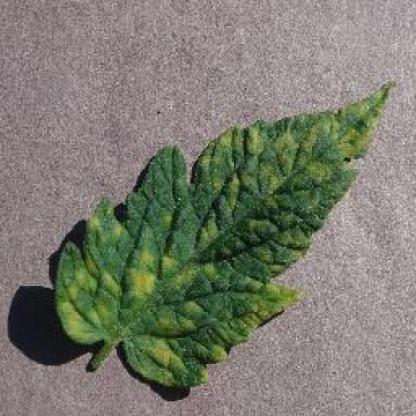Tomato_Leaf_Mold: (56, 77, 396, 383)
